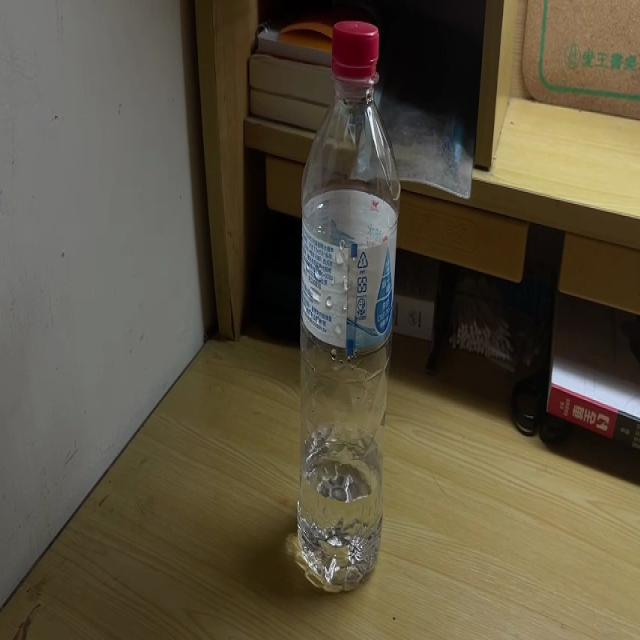Water: (296, 22, 400, 594)
